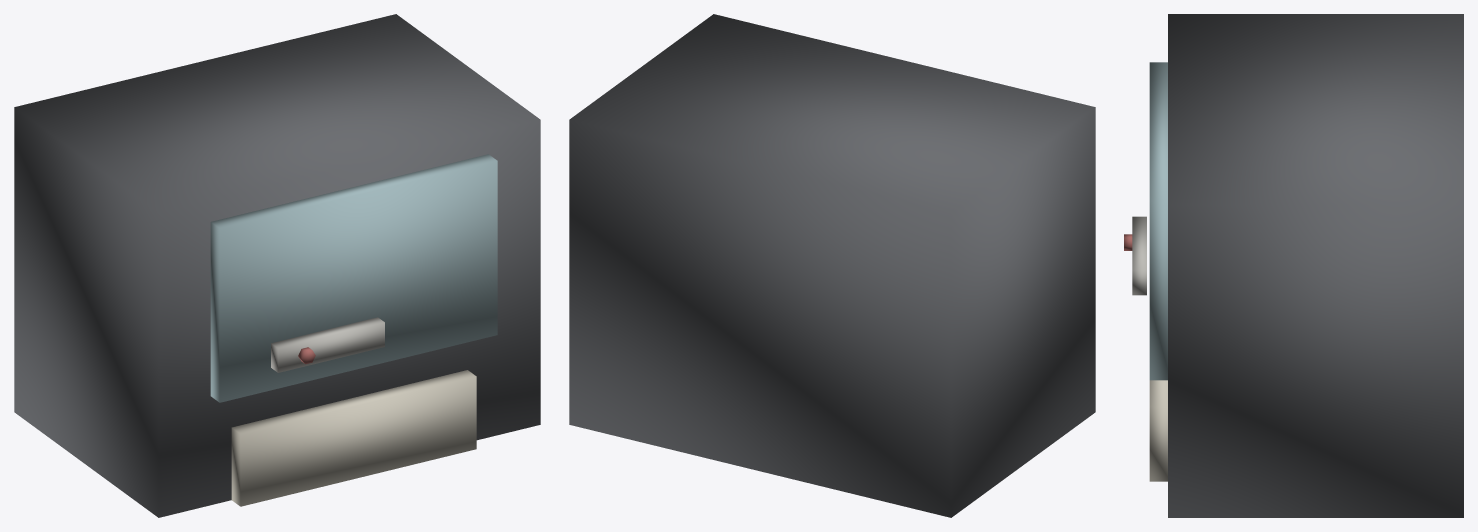
The model's file is microfilm_reader.glb.
3 views of the same model, side by side, from view 1: azimuth 30°, elevation 25°; view 2: azimuth 150°, elevation 25°; view 3: azimuth 270°, elevation 25° (orthographic). The views are drawn at different scales.
Parts seen in each view (by area): view 1: world; view 2: world; view 3: world.
Part boxes in pixels (left/top/right/bottom): world: left=14, top=14, right=540, bottom=517; world: left=569, top=14, right=1095, bottom=517; world: left=1124, top=14, right=1463, bottom=517.
Size of the model in its own units: 0.55 by 0.42 by 0.4135.
